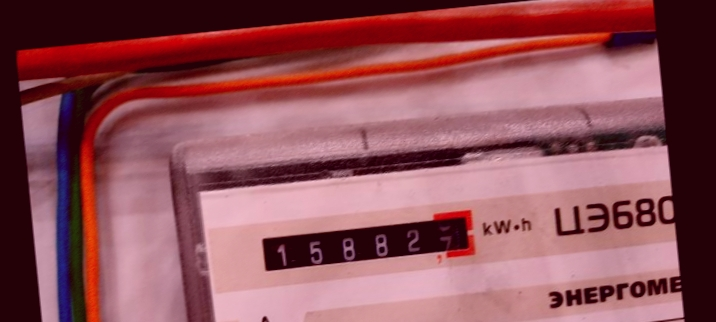1: (274, 238, 291, 267)
2: (405, 224, 423, 253)
5: (306, 235, 327, 264)
7: (438, 231, 455, 249)
8: (339, 232, 358, 262), (373, 228, 391, 257)
screen: (248, 199, 488, 283)
